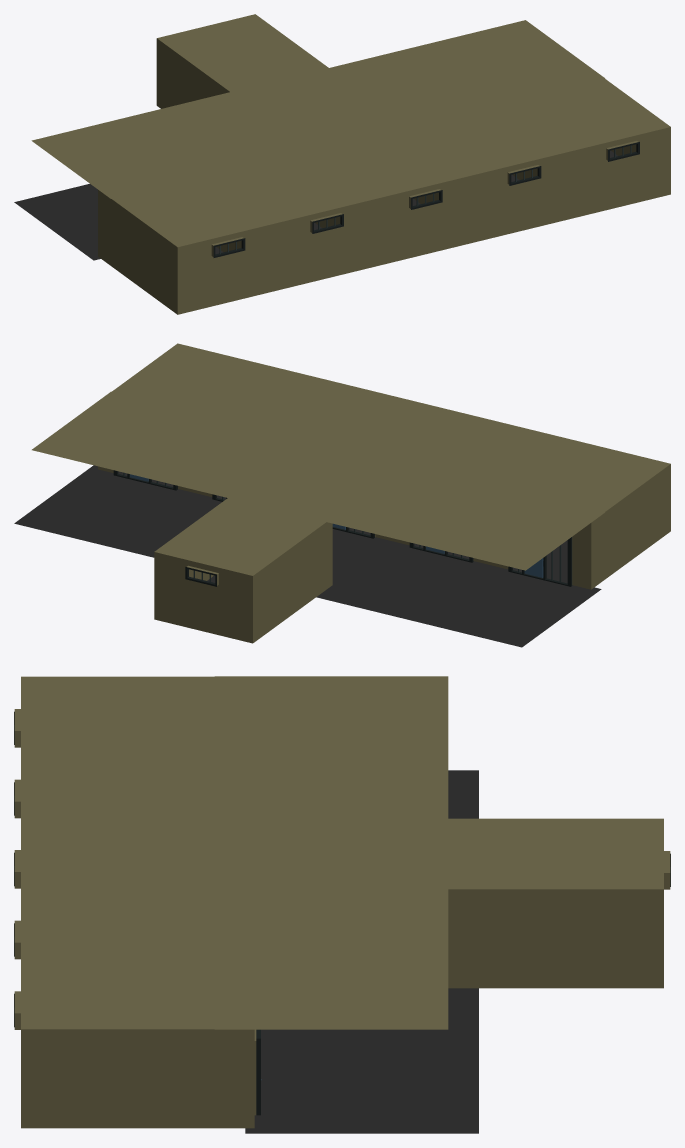
Rendered from cells.fbx.
3 views of the same model, one above another, from view 1: azimuth 30°, elevation 25°; view 2: azimuth 150°, elevation 25°; view 3: azimuth 270°, elevation 25° (orthographic). The views are drawn at different scales.
Visible parts, largest first — view 1: wall051, wall043, wall031, wall048, wall014, wall042, wall037, wall046, wall029, wall040, wall035, wall027 (+3 smaller); view 2: wall051, Wall010, wall043, wall031, wall014, wall037, wall042, wall048, wall012, wall047, wall011, wall049 (+2 smaller); view 3: wall051, Wall010, wall026, wall013, wall014, wall043, wall031, wall037, wall042, wall048.
Part boxes in pixels (box(x1,y1,x2,y2)): wall051: box(31, 20, 604, 198); wall043: box(493, 68, 670, 150); wall031: box(394, 92, 571, 174); wall048: box(99, 165, 275, 247); wall014: box(157, 14, 334, 91); wall042: box(199, 148, 374, 222); wall037: box(309, 117, 472, 198); wall046: box(177, 223, 276, 314); wall029: box(473, 151, 572, 242); wall040: box(276, 199, 374, 290); wall035: box(375, 175, 473, 266); wall027: box(572, 127, 670, 218); wall051: box(32, 391, 604, 570); Wall010: box(14, 465, 601, 647); wall043: box(98, 343, 275, 425); wall031: box(197, 367, 374, 449); wall014: box(154, 493, 331, 575); wall037: box(295, 391, 472, 473); wall042: box(394, 415, 571, 497); wall048: box(507, 440, 670, 511); wall012: box(154, 552, 252, 643); wall047: box(591, 464, 670, 589); wall011: box(253, 522, 332, 642); wall049: box(492, 523, 591, 589); wall051: box(214, 676, 448, 1029); Wall010: box(245, 770, 478, 1133); wall026: box(21, 1029, 254, 1128); wall013: box(448, 889, 663, 988); wall014: box(430, 818, 663, 889); wall043: box(21, 959, 254, 1029); wall031: box(21, 888, 254, 958); wall037: box(21, 817, 254, 888); wall042: box(21, 747, 254, 817); wall048: box(21, 676, 254, 747).
Size of the model in its own units: 515 by 65.42 by 393.
